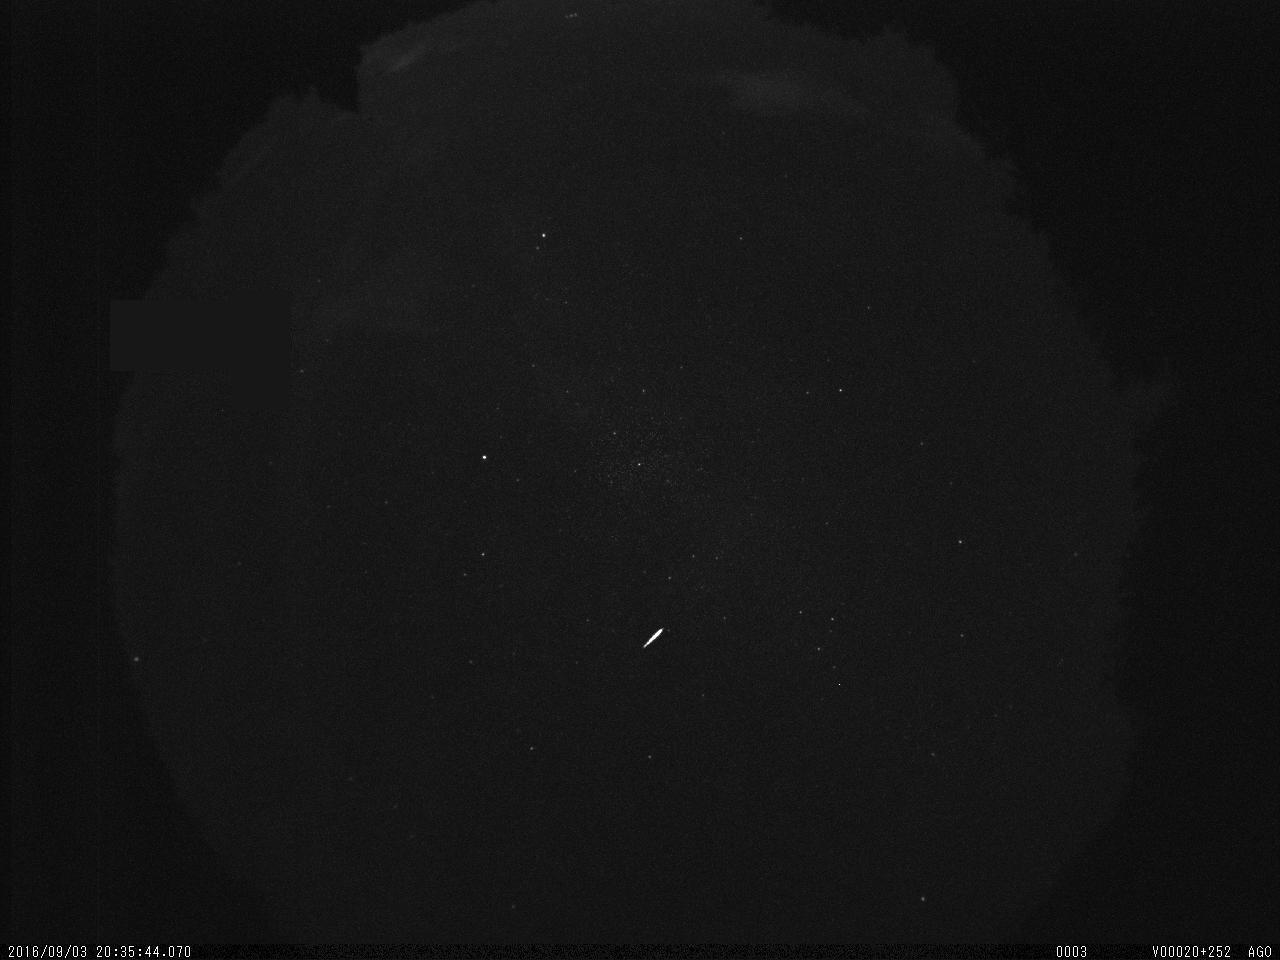meteor: (637, 619, 669, 655)
